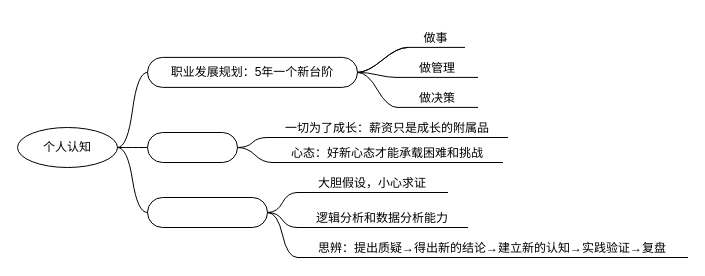
This 705x276 diagram has some shape labels left out. Each missing label, with the centre of its shape:
看透问题本质: the point at 207,212
终身成长: the point at 192,147
